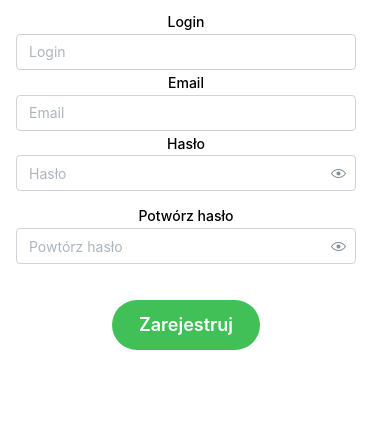
Register Component › shows validation errors for invalid form data
In the field labelled "Login": (186, 52) [16,34,356,70], type "user"
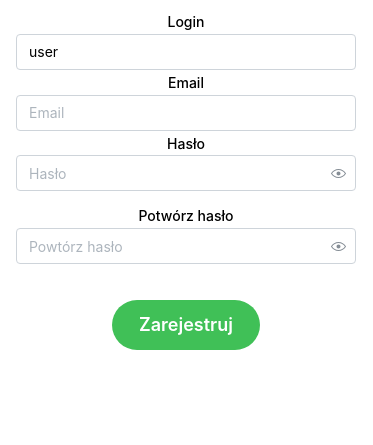
In the field labelled "Email": (186, 113) [16,95,356,131], type "invalid-email"
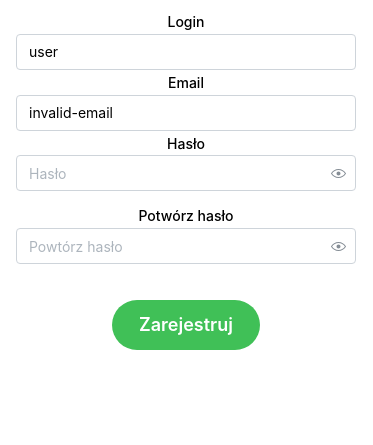
In the password field labelled "Hasło": (186, 173) [17,156,355,190], type "test"
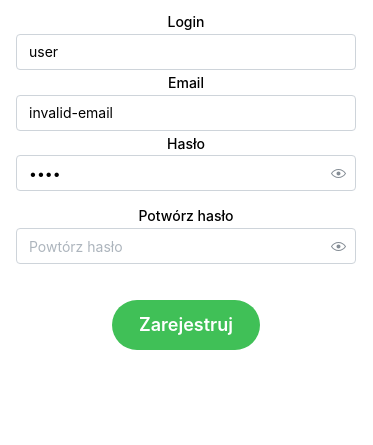
In the password field labelled "Potwórz hasło": (186, 246) [17,229,355,263], type "mismatch"
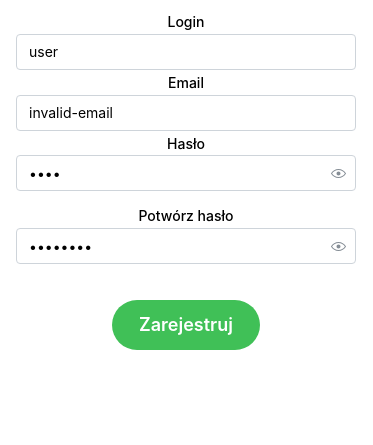
Click the button "Zarejestruj": (186, 325) [112,300,260,350]
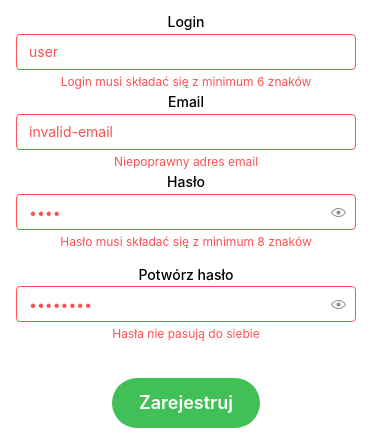
Expected: the text "Login musi składać się z minimum 6 znaków" is shown, [61,74,311,89]
Expected: the text "Niepoprawny adres email" is shown, [114,154,258,169]
Expected: the text "Hasło musi składać się z minimum 8 znaków" is shown, [60,234,312,249]
